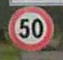limite 50: (7, 5, 54, 51)
